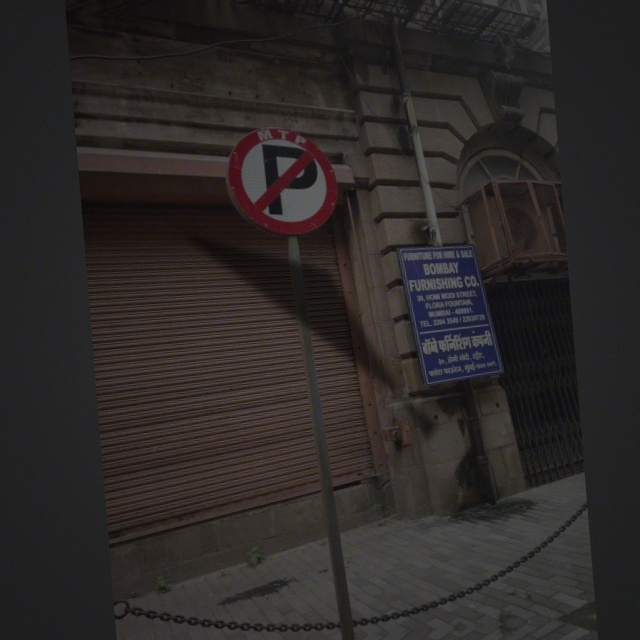No_Parking: (223, 116, 345, 242)
